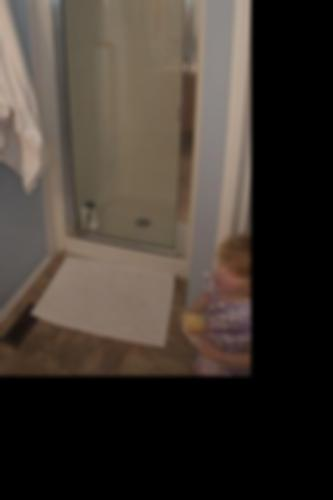Ducha: (37, 0, 208, 271)
